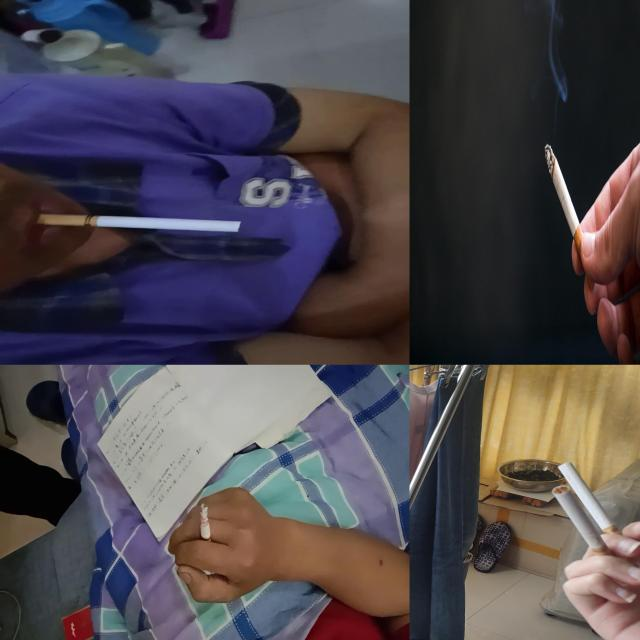smoking: (544, 143, 594, 290), (558, 462, 630, 554), (552, 484, 620, 571), (38, 214, 244, 232), (200, 503, 212, 550)
